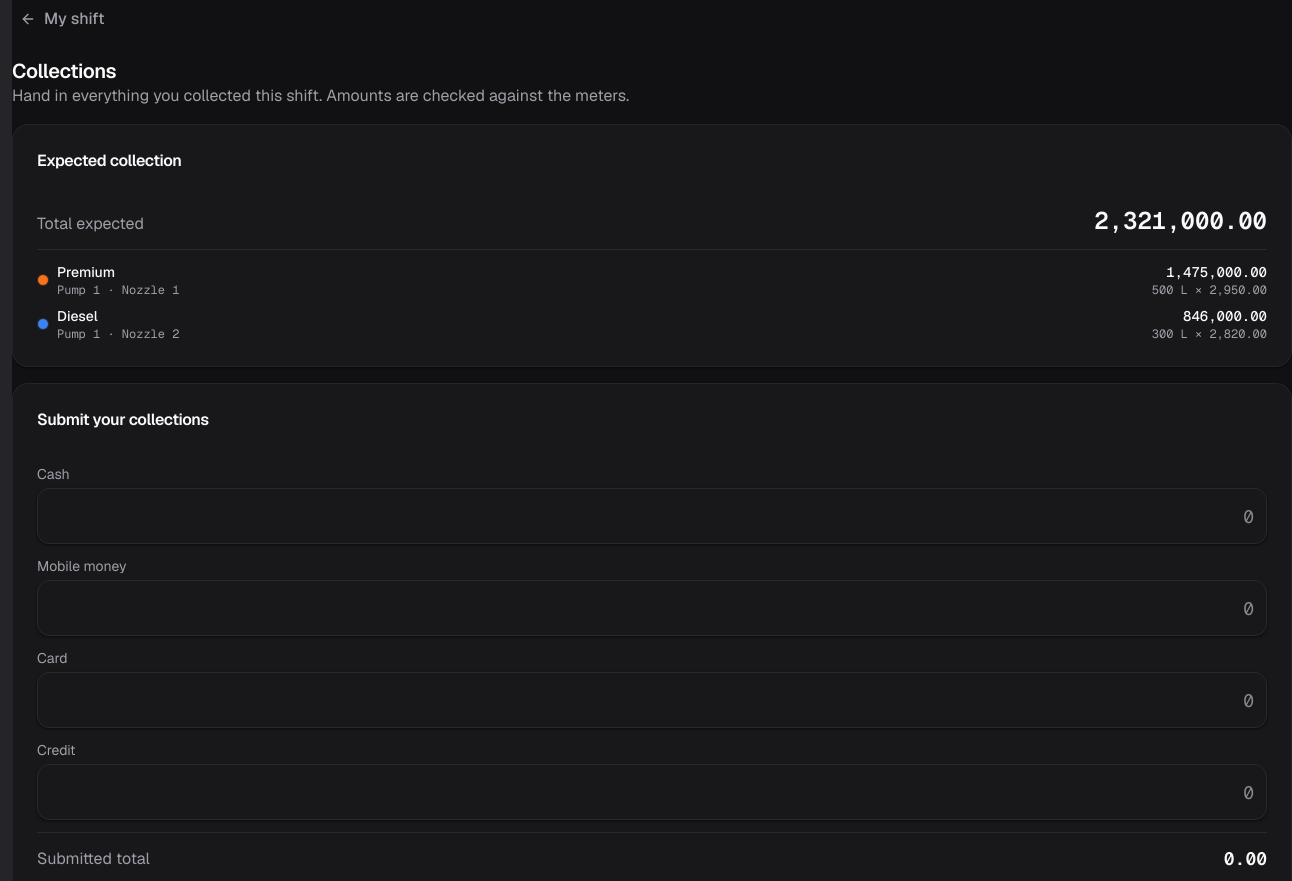
Scenario: CollectionsPage › live-calculates an EXCESS across tenders (text + warning)
In the field labelled "Cash": coordinates (652, 516) [37,488,1267,544], type "2000000"
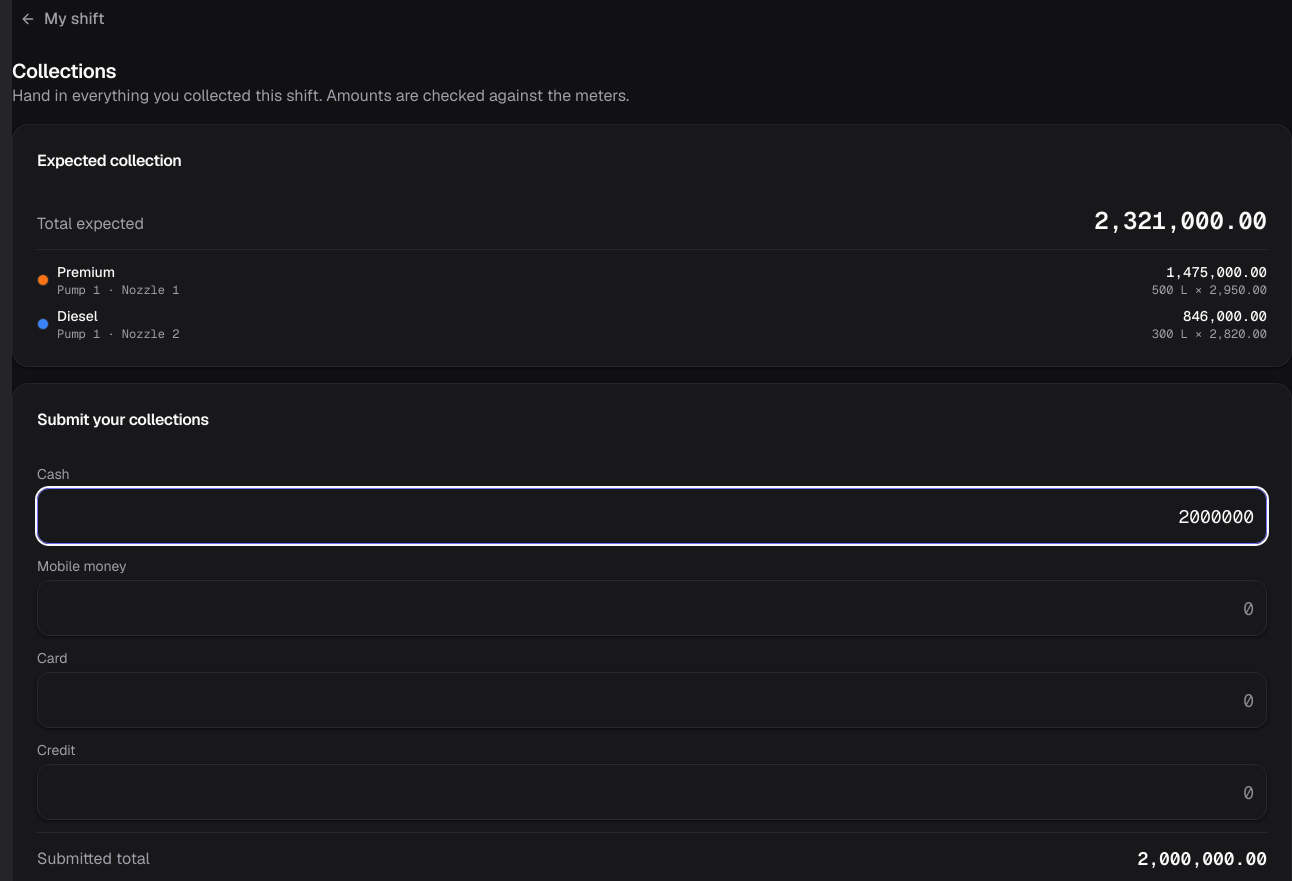
In the field labelled "Mobile money": coordinates (652, 608) [37,580,1267,636], type "321500.50"
(page scrolled)
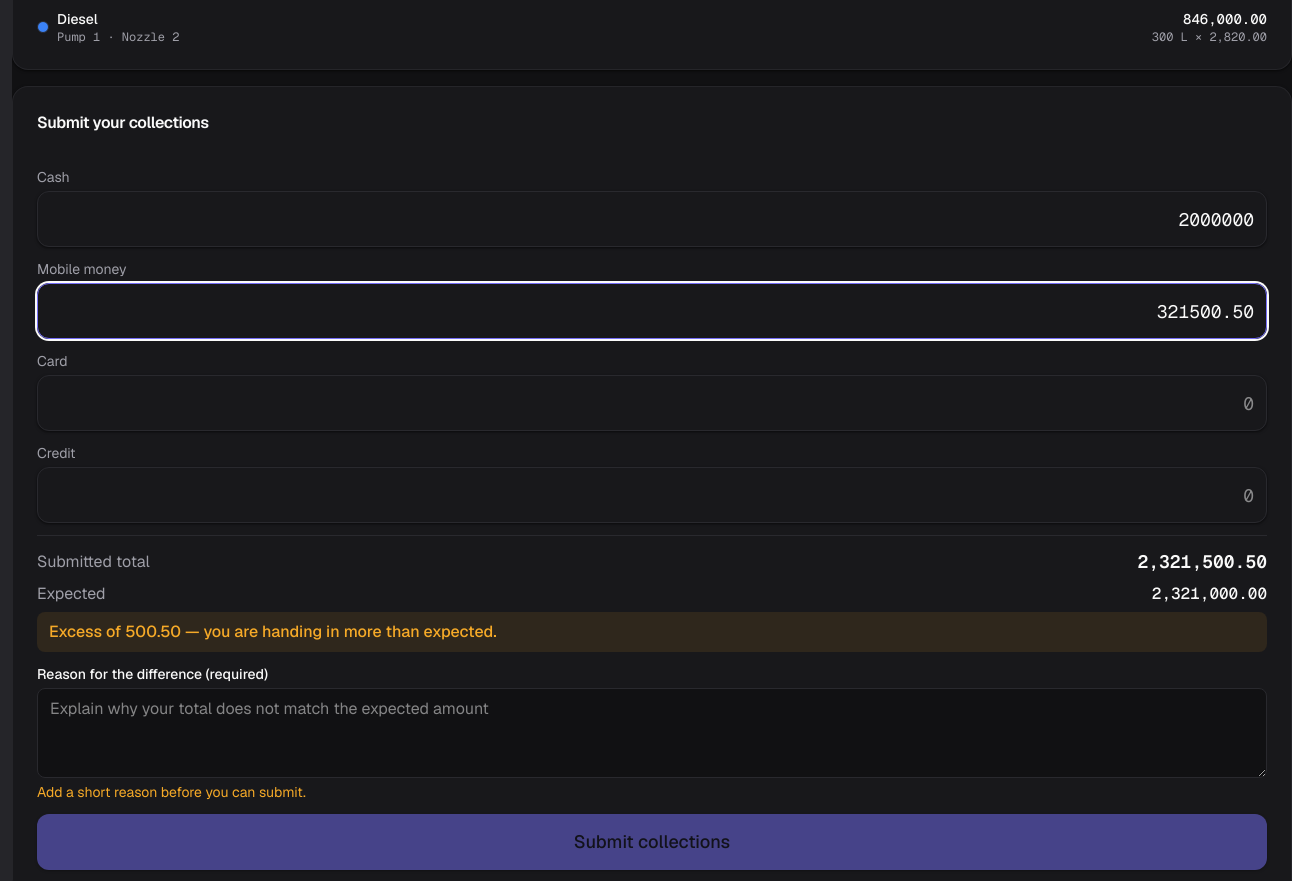
Expected: the text box labelled "Reason for the difference (required)" is shown, [37,688,1267,778]
Now the text "Excess of 500.50 — you are handing in more than expected." is shown, box [37,612,1267,652]
